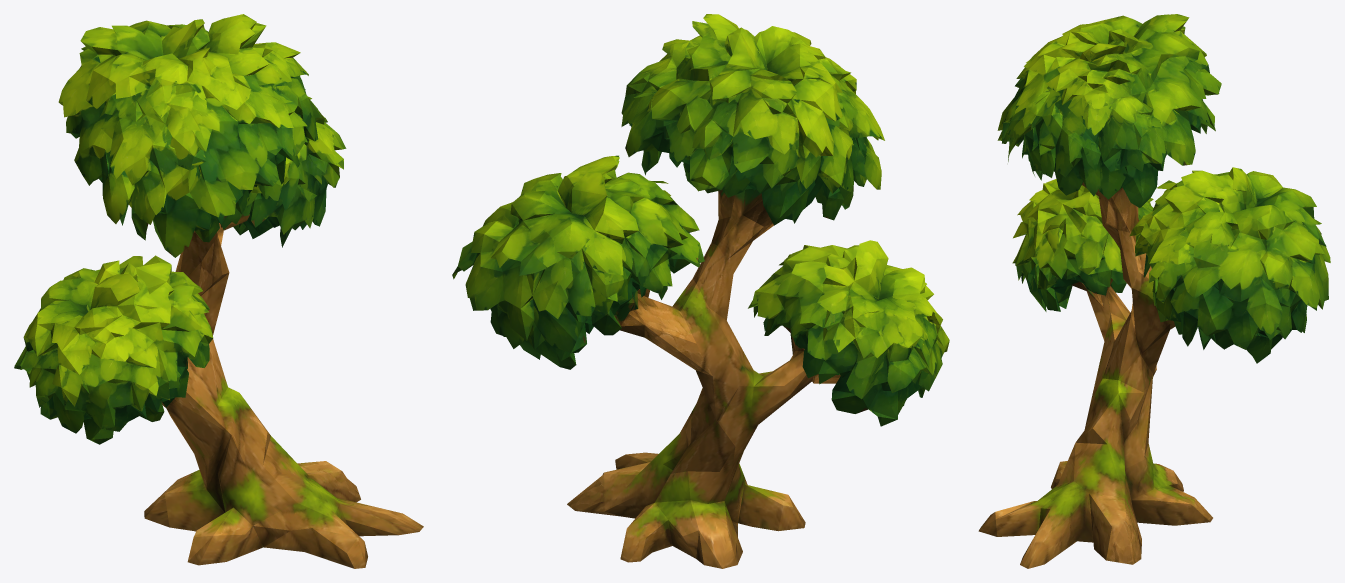
File: young-canopy-tree.glb
3 renders of one model, left to right at view 1: azimuth 30°, elevation 25°; view 2: azimuth 150°, elevation 25°; view 3: azimuth 270°, elevation 25°, orthographic. The views are drawn at different scales.
Parts seen in each view (by area): view 1: output_unwrapped; view 2: output_unwrapped; view 3: output_unwrapped.
Boxes of the visible parts, <box> form: output_unwrapped: <box>14,14,423,568</box>; output_unwrapped: <box>452,14,949,568</box>; output_unwrapped: <box>978,14,1330,568</box>.
Size of the model in its own units: 2.22 by 2.8 by 1.93.
Materials: 1 (1 with a texture image).
